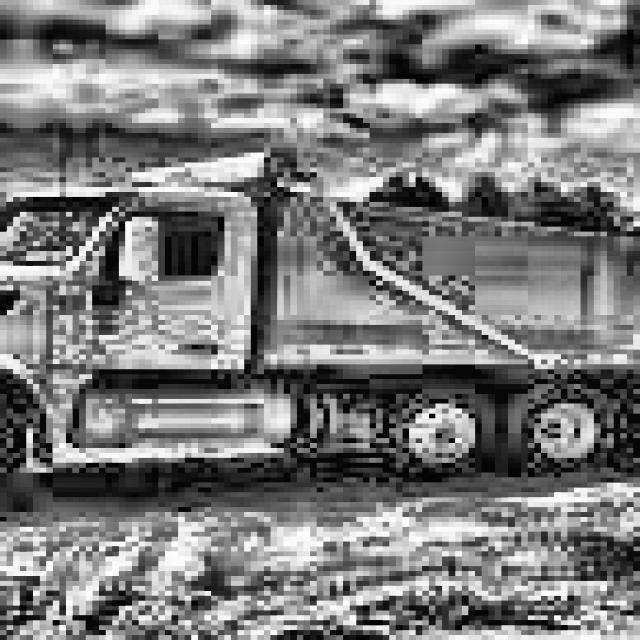dump_truck: (0, 153, 640, 522)
